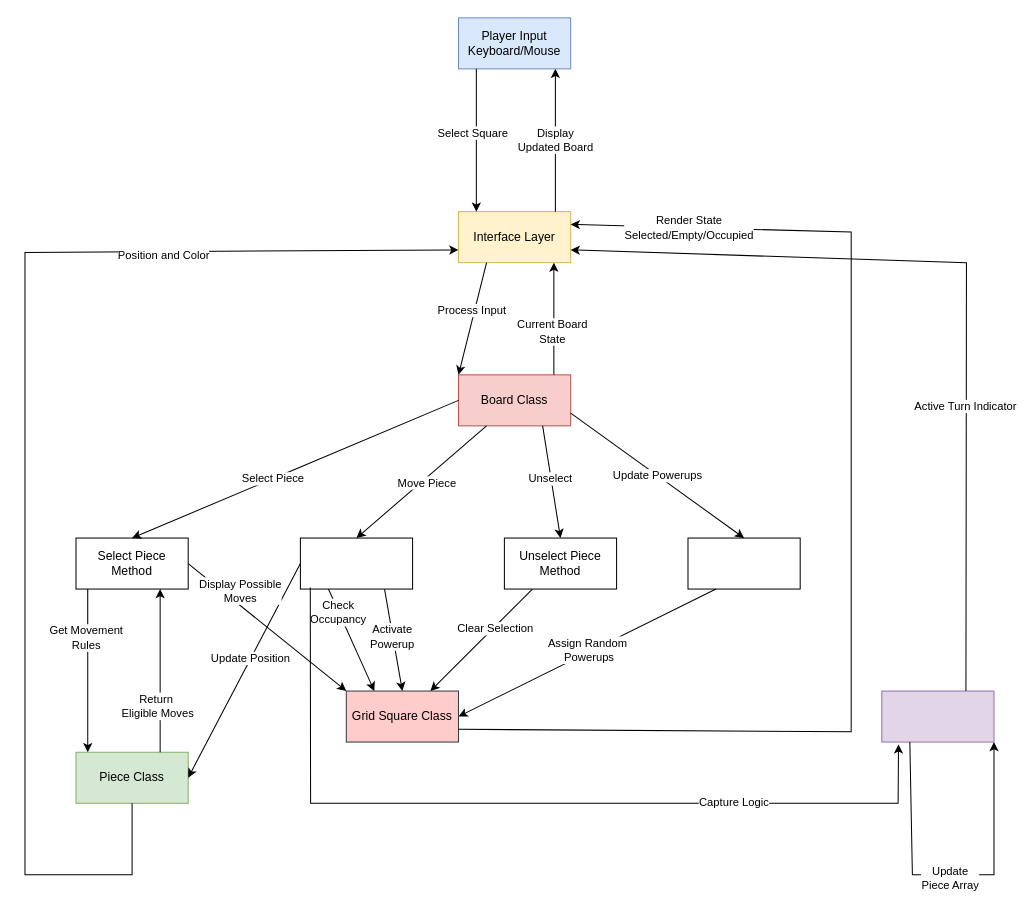
Some shapes in this 1034 by 909 pixel diagram are drawn without their labels. Each missing label, with the centre of its shape:
"Player Class" goes at (x=937, y=716).
"Selection Destination Method" goes at (x=356, y=563).
"Update Powerups Method" goes at (x=743, y=563).
